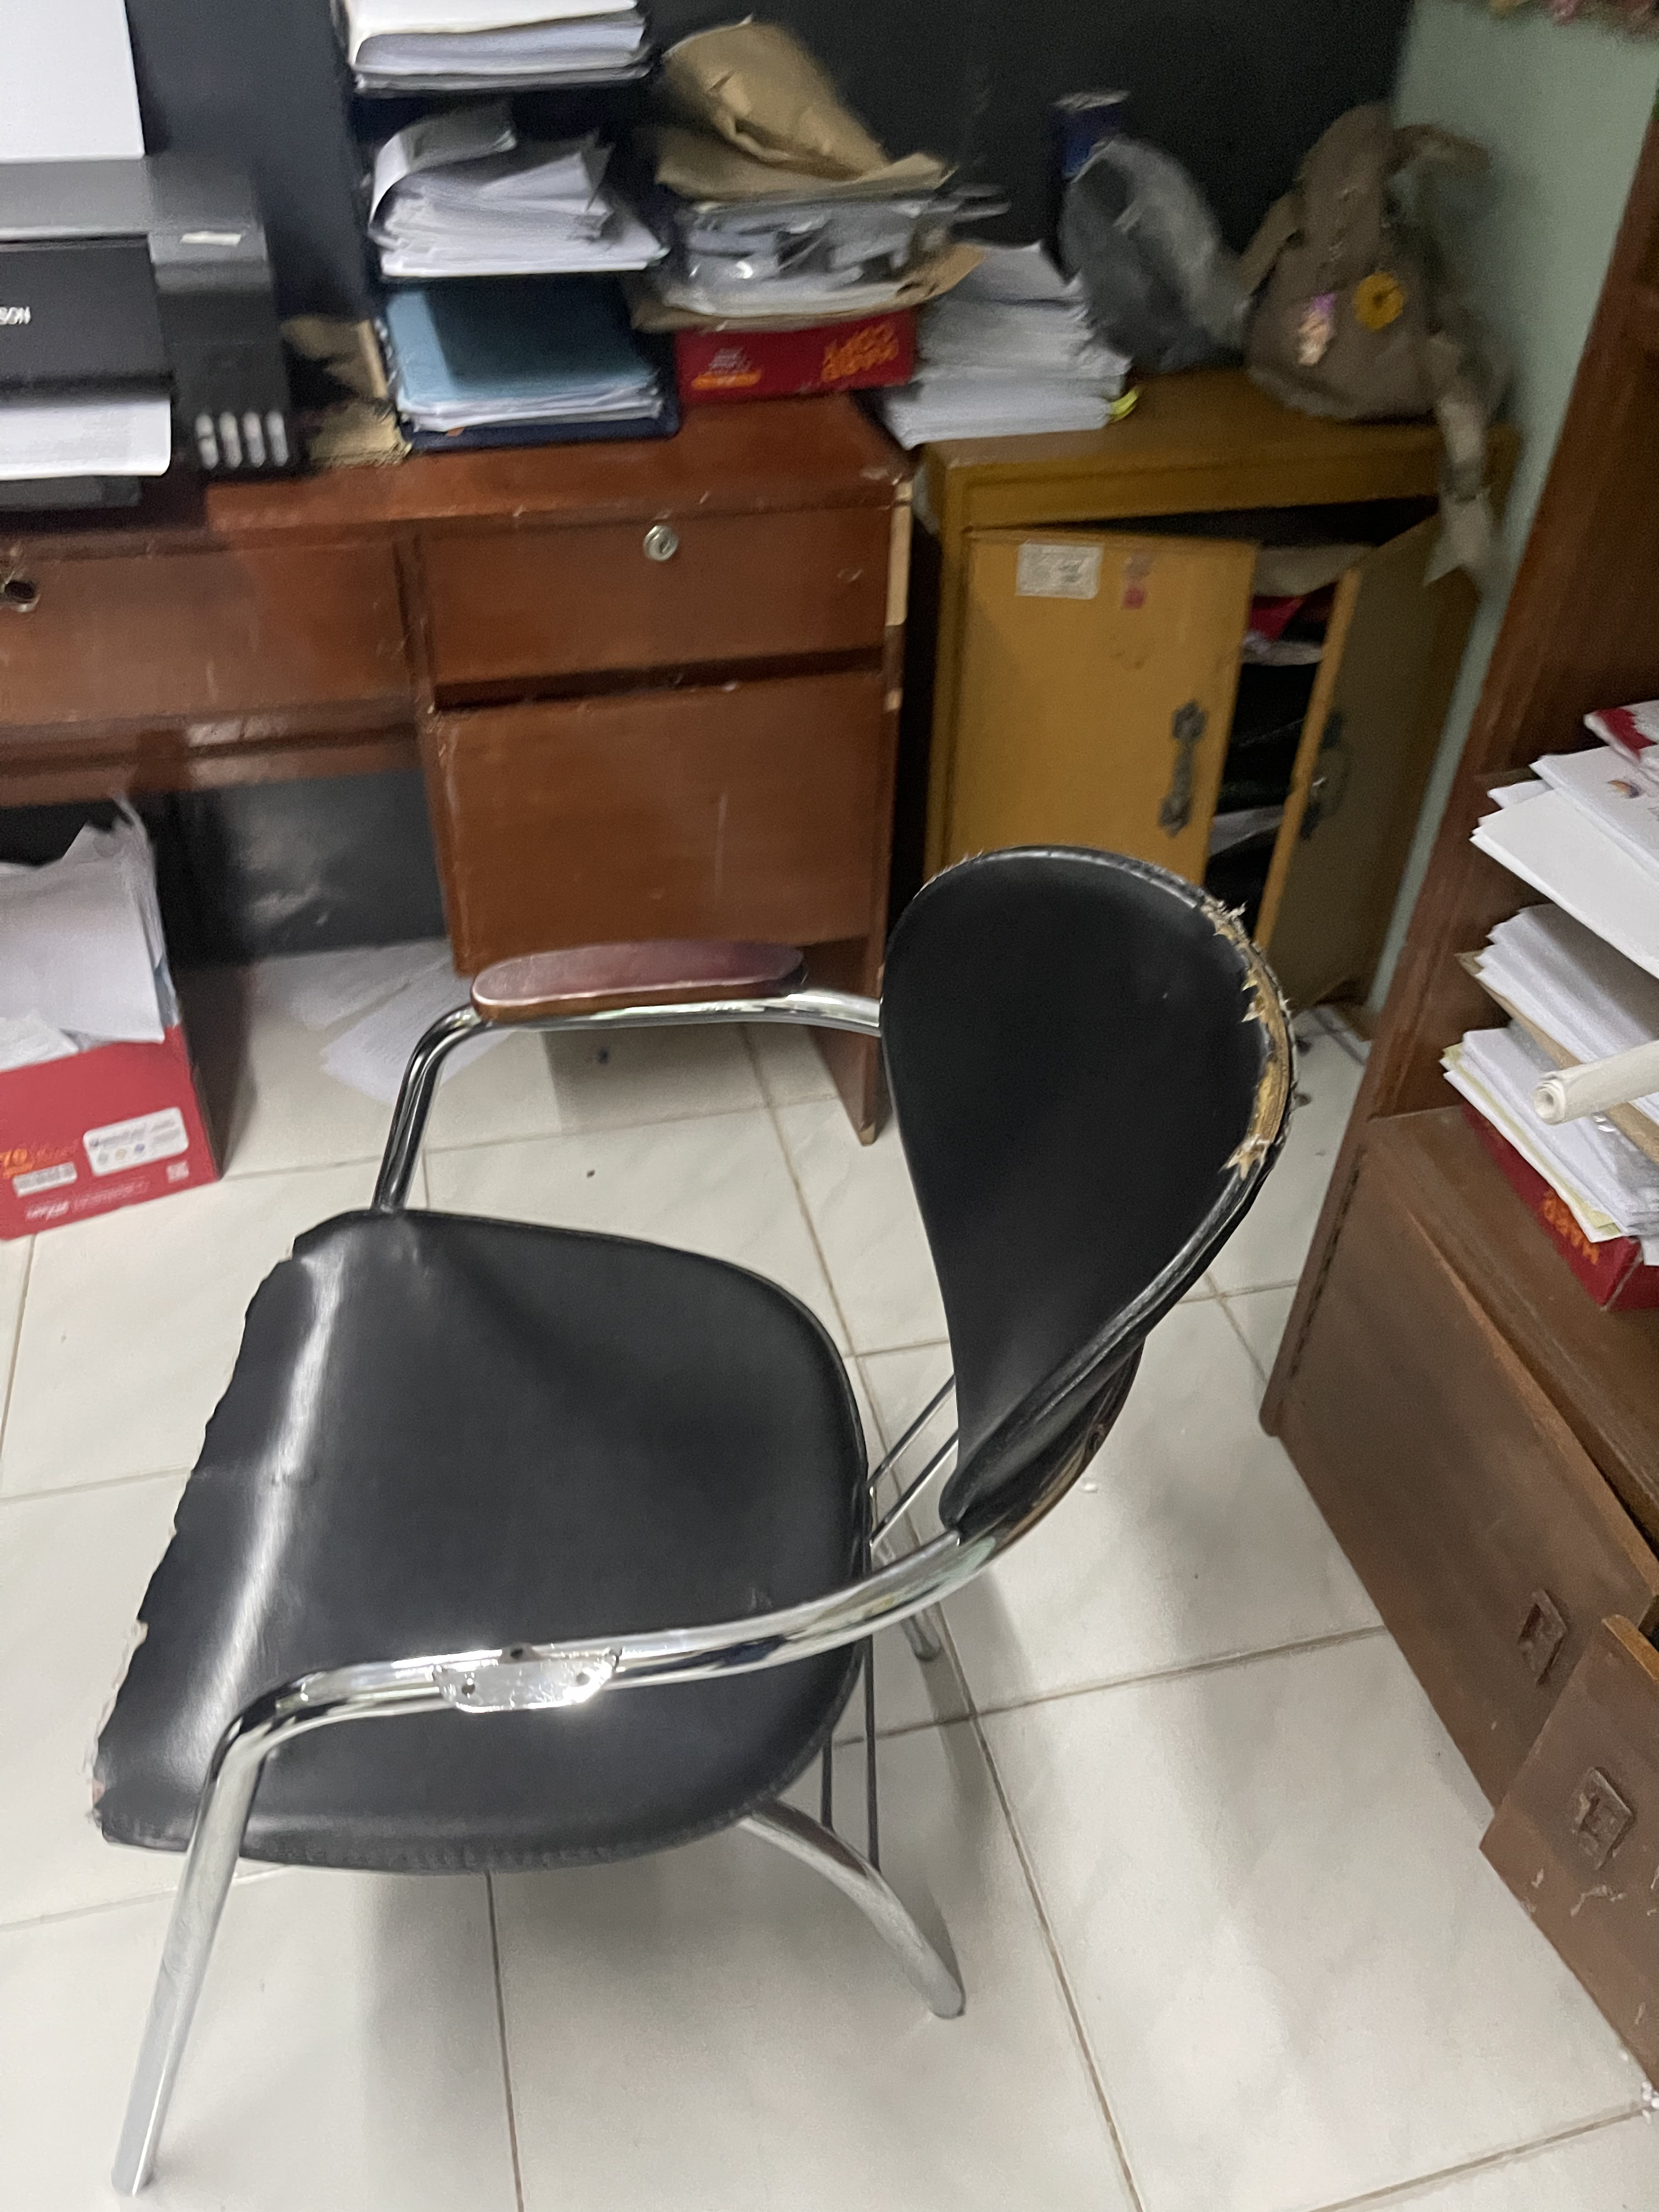chair1: (99, 852, 1304, 2212)
